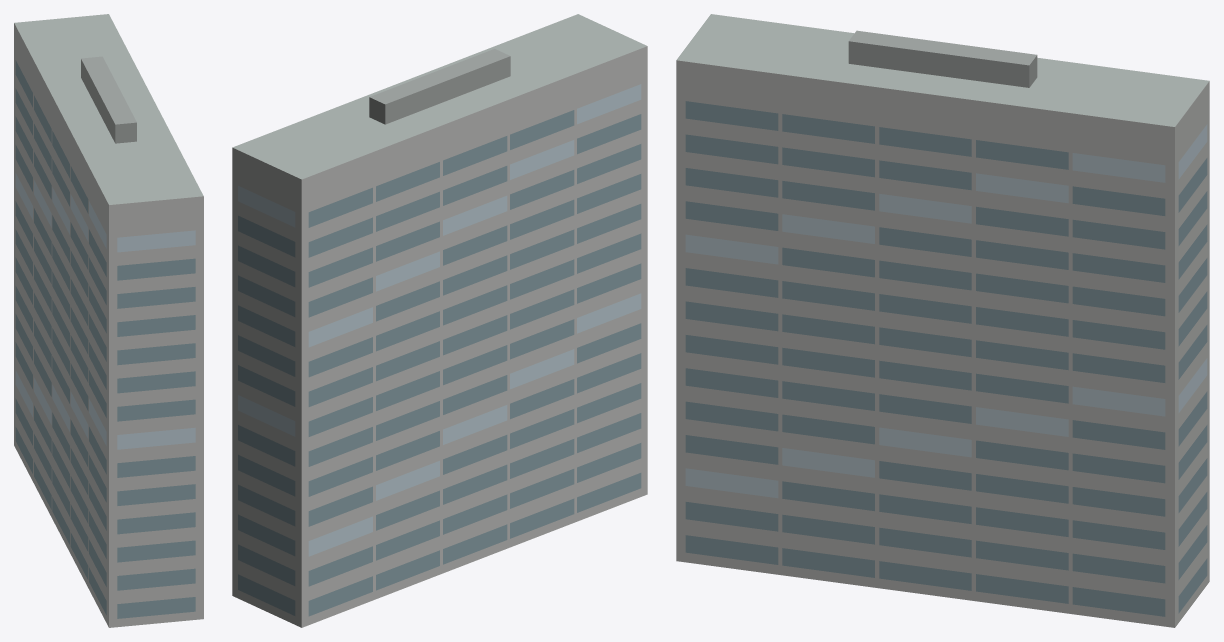
The model's file is fallback-olympic-park-foreon-106.glb.
3 views of the same model, side by side, from view 1: azimuth 30°, elevation 25°; view 2: azimuth 150°, elevation 25°; view 3: azimuth 270°, elevation 25° (orthographic). The views are drawn at different scales.
Visible parts, largest first — view 1: fallback-olympic-park-foreon-106; view 2: fallback-olympic-park-foreon-106; view 3: fallback-olympic-park-foreon-106.
Boxes of the visible parts, bbox=[...] form: fallback-olympic-park-foreon-106: bbox=[14, 14, 203, 627]; fallback-olympic-park-foreon-106: bbox=[232, 14, 647, 627]; fallback-olympic-park-foreon-106: bbox=[676, 14, 1209, 627].
Bounding box in the file's own units: 22.17 × 47.81 × 44.16.
